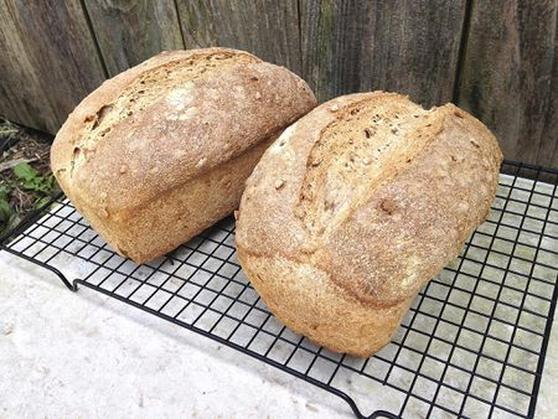white_bread: (242, 75, 509, 363), (38, 48, 311, 260)
